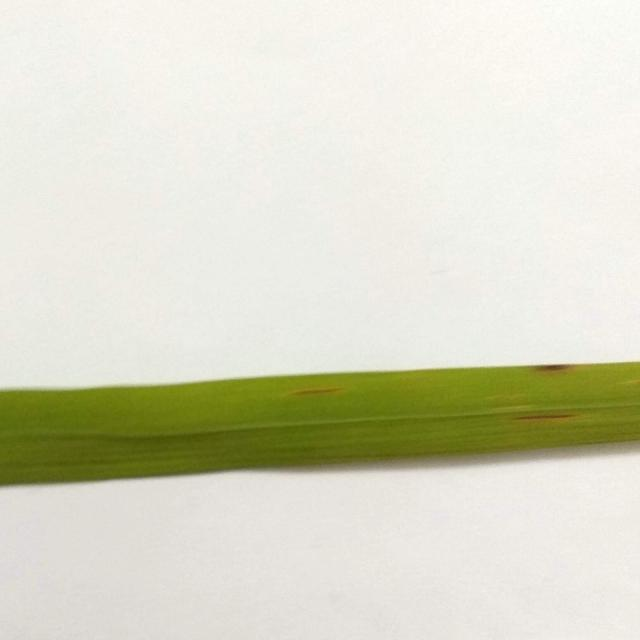Brown spot: (0, 346, 640, 502)
